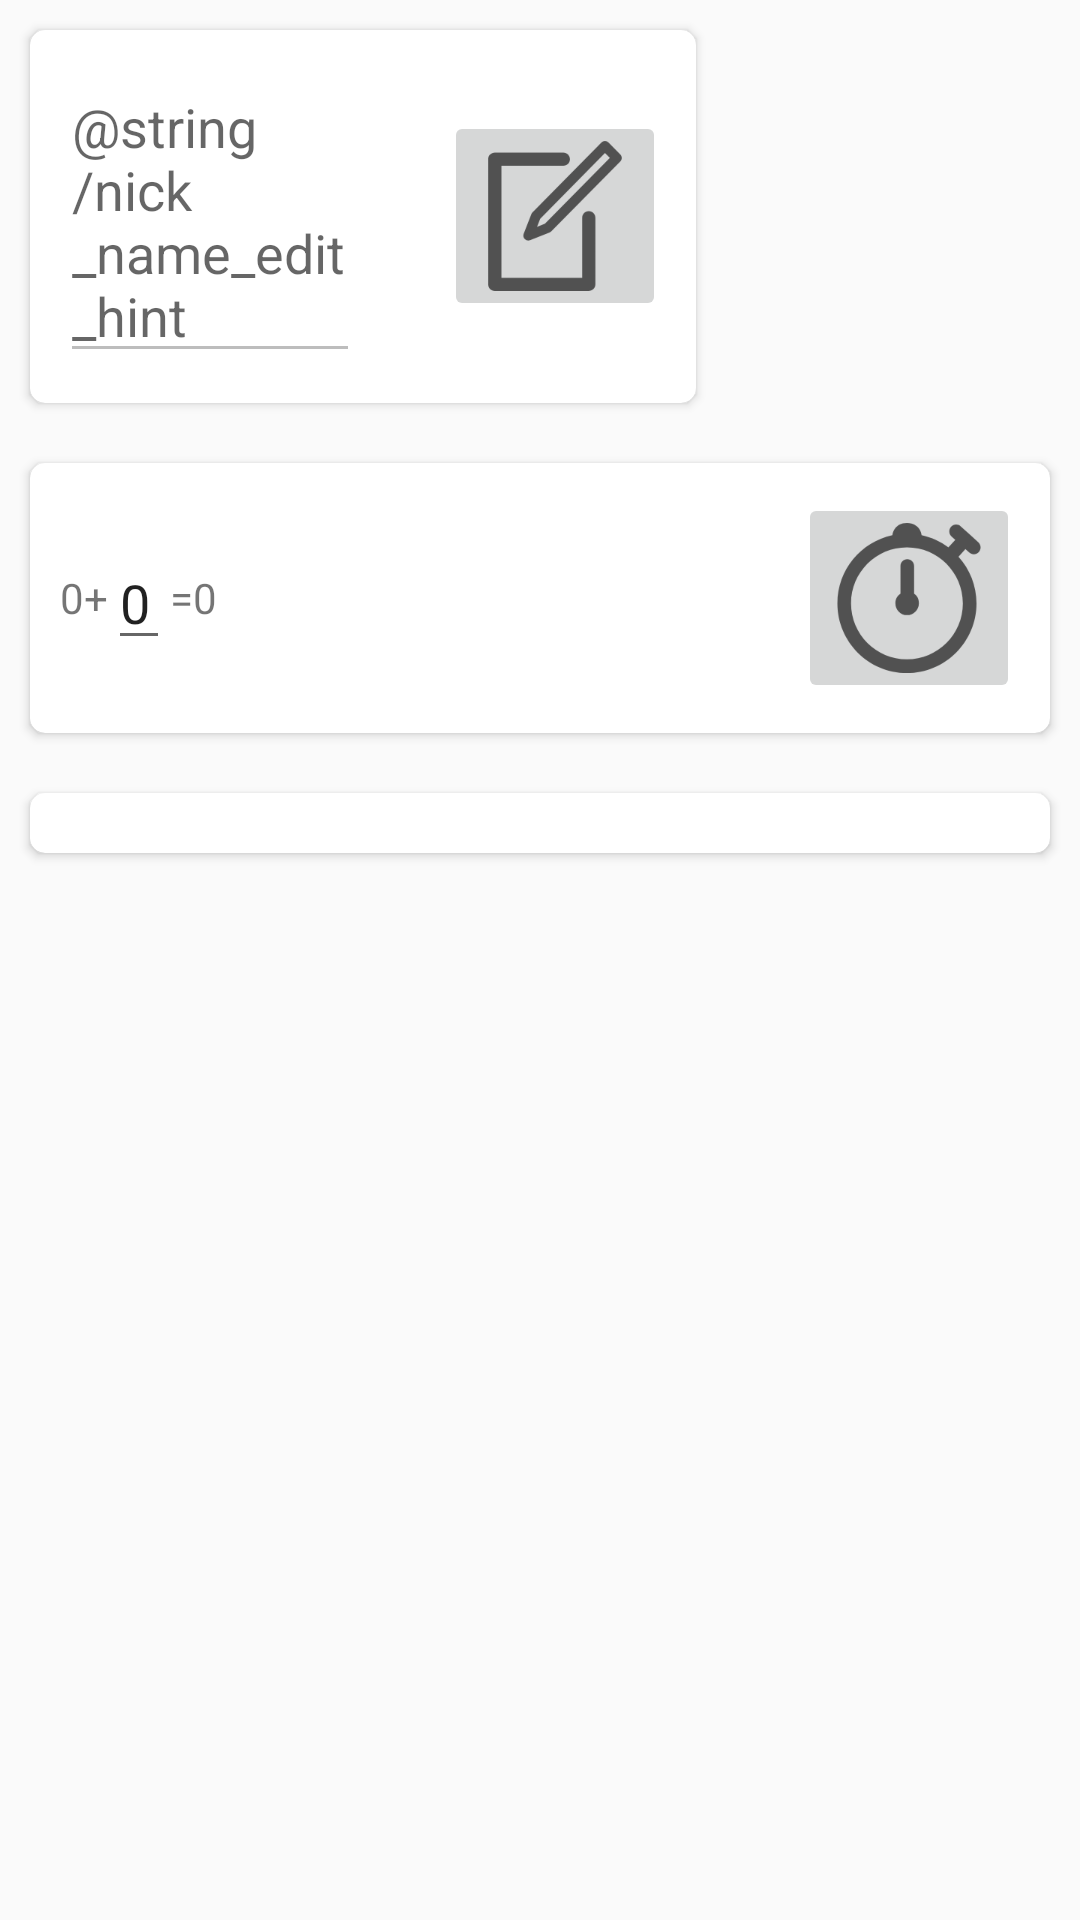

Screen size 1080×1920. Icon name, then its center in pixels as (x,y):
edit: (555,216)
